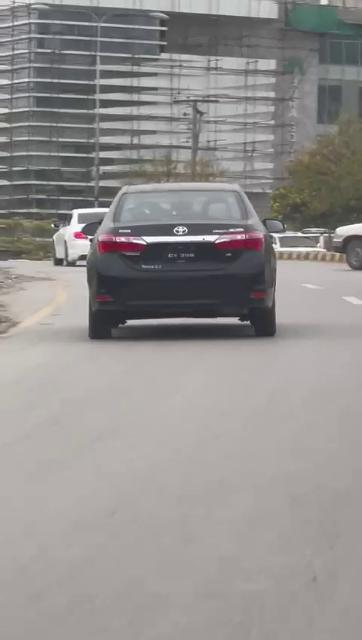plate: (162, 248, 204, 262)
